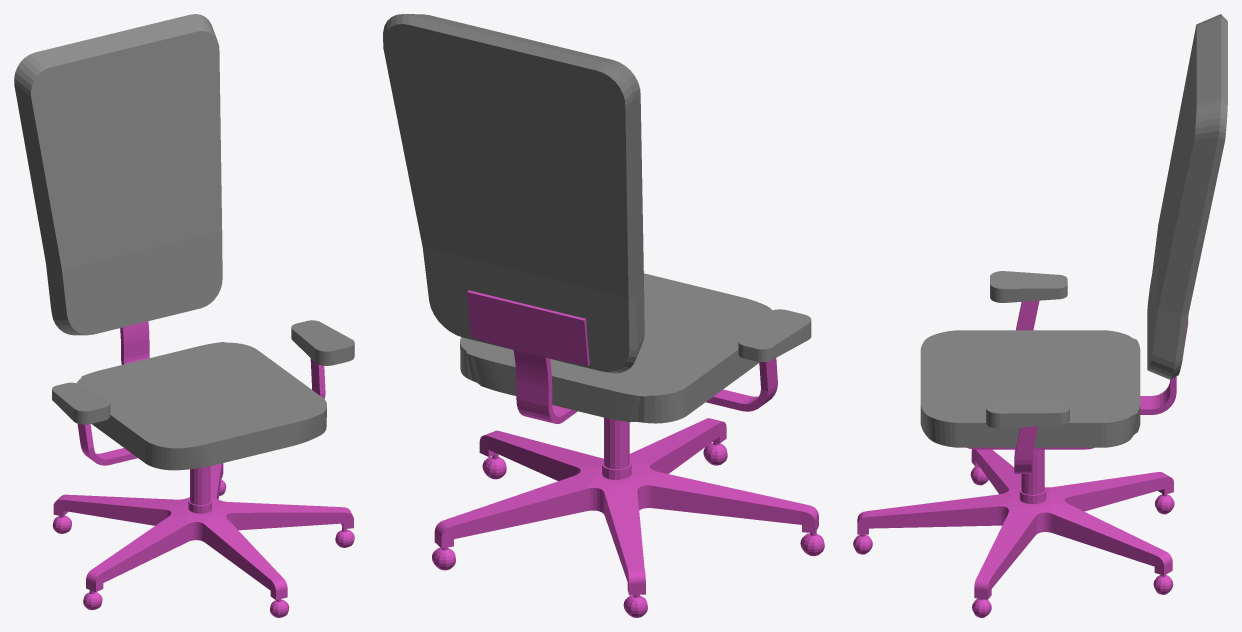
Rendered from office.chair.fbx.
3 views of the same model, side by side, from view 1: azimuth 30°, elevation 25°; view 2: azimuth 150°, elevation 25°; view 3: azimuth 270°, elevation 25° (orthographic). The views are drawn at different scales.
Visible parts, largest first — view 1: Plane.002, Plane.001; view 2: Plane.002, Plane.001; view 3: Plane.002, Plane.001.
Part boxes in pixels (<box>): Plane.002: <box>14,14,354,470</box>; Plane.001: <box>52,321,354,617</box>; Plane.002: <box>383,14,811,423</box>; Plane.001: <box>432,290,824,617</box>; Plane.002: <box>920,14,1227,447</box>; Plane.001: <box>853,300,1188,617</box>.
Size of the model in its own units: 509 by 809 by 554.
